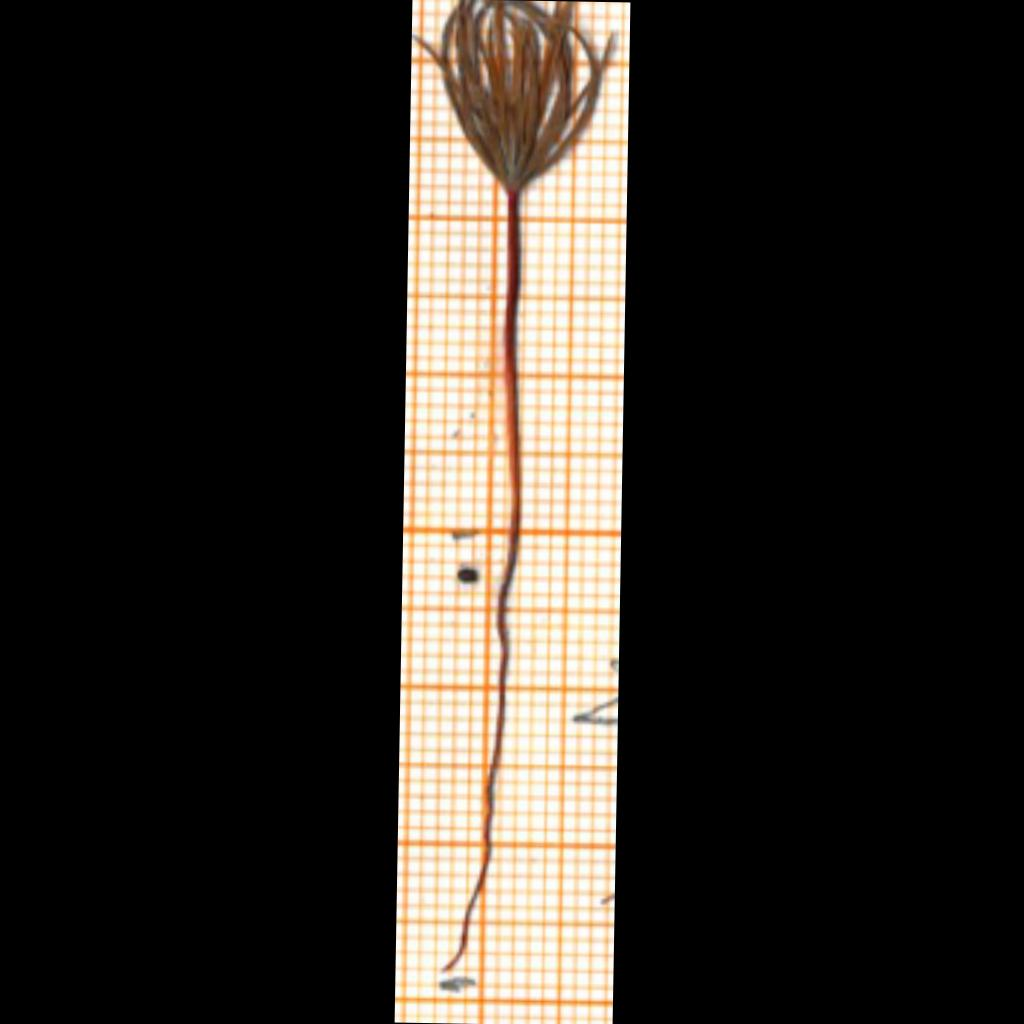flowerPinus: (415, 0, 610, 190)
rootPinus: (445, 527, 518, 970)
stemPinus: (503, 191, 521, 537)
